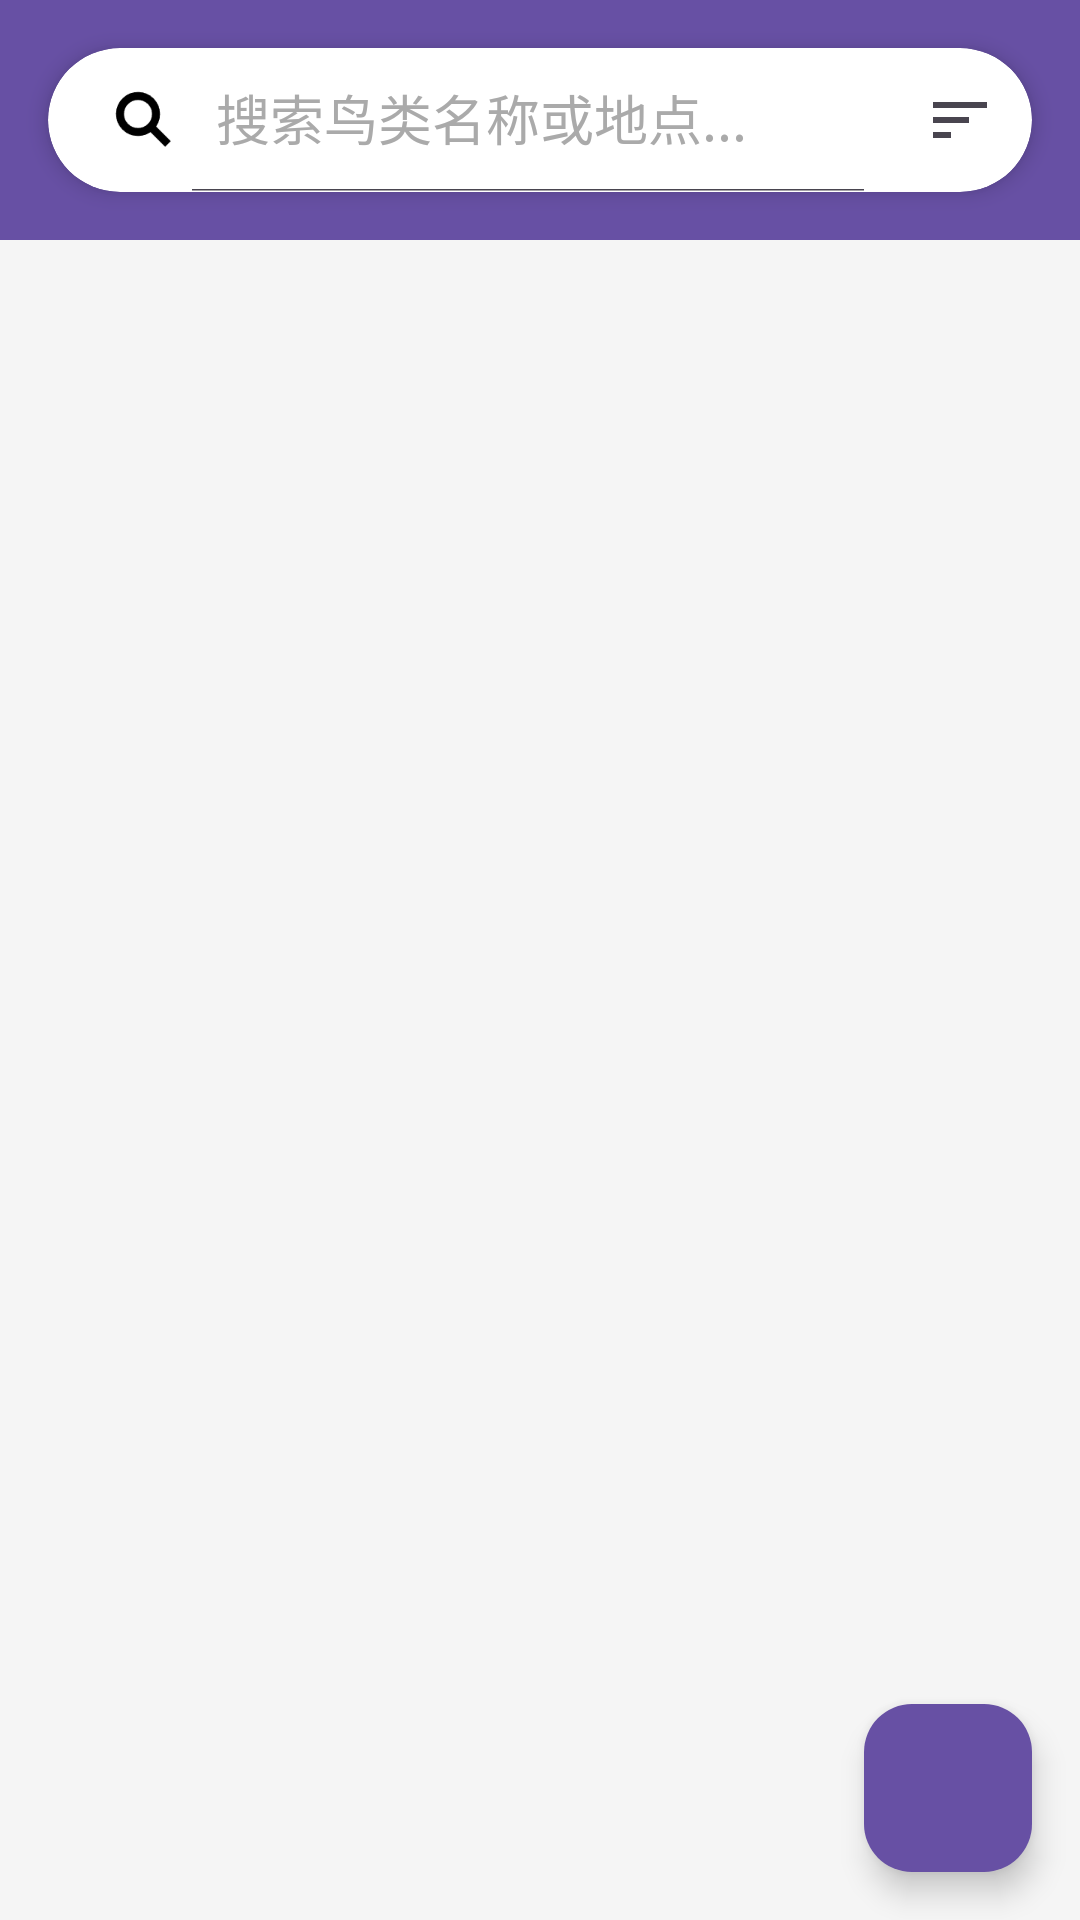

Icon click points for this 1080px×1920px phone screenshot, format (x,y):
排序: (960,120)
